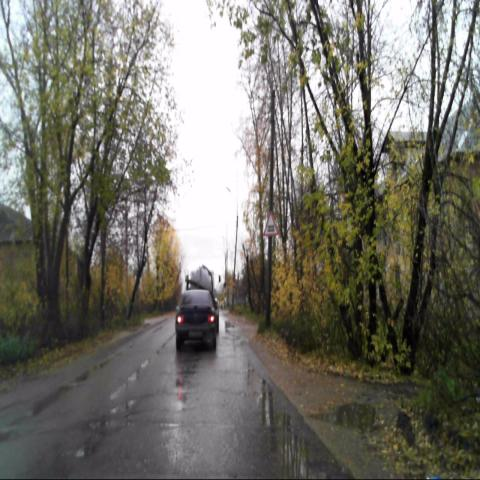1_1: (263, 210, 278, 237)
